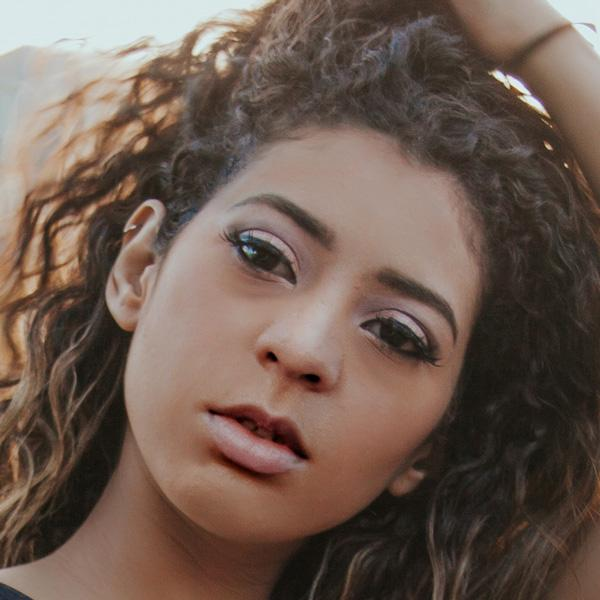Eyes: (219, 218, 305, 293), (353, 300, 440, 374)
